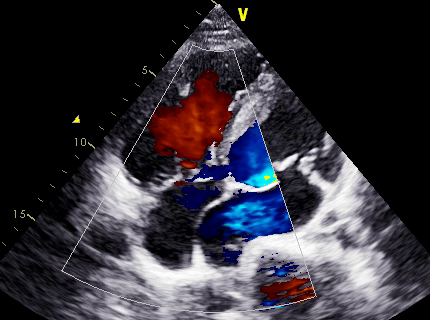TR: (170, 153, 245, 220)
